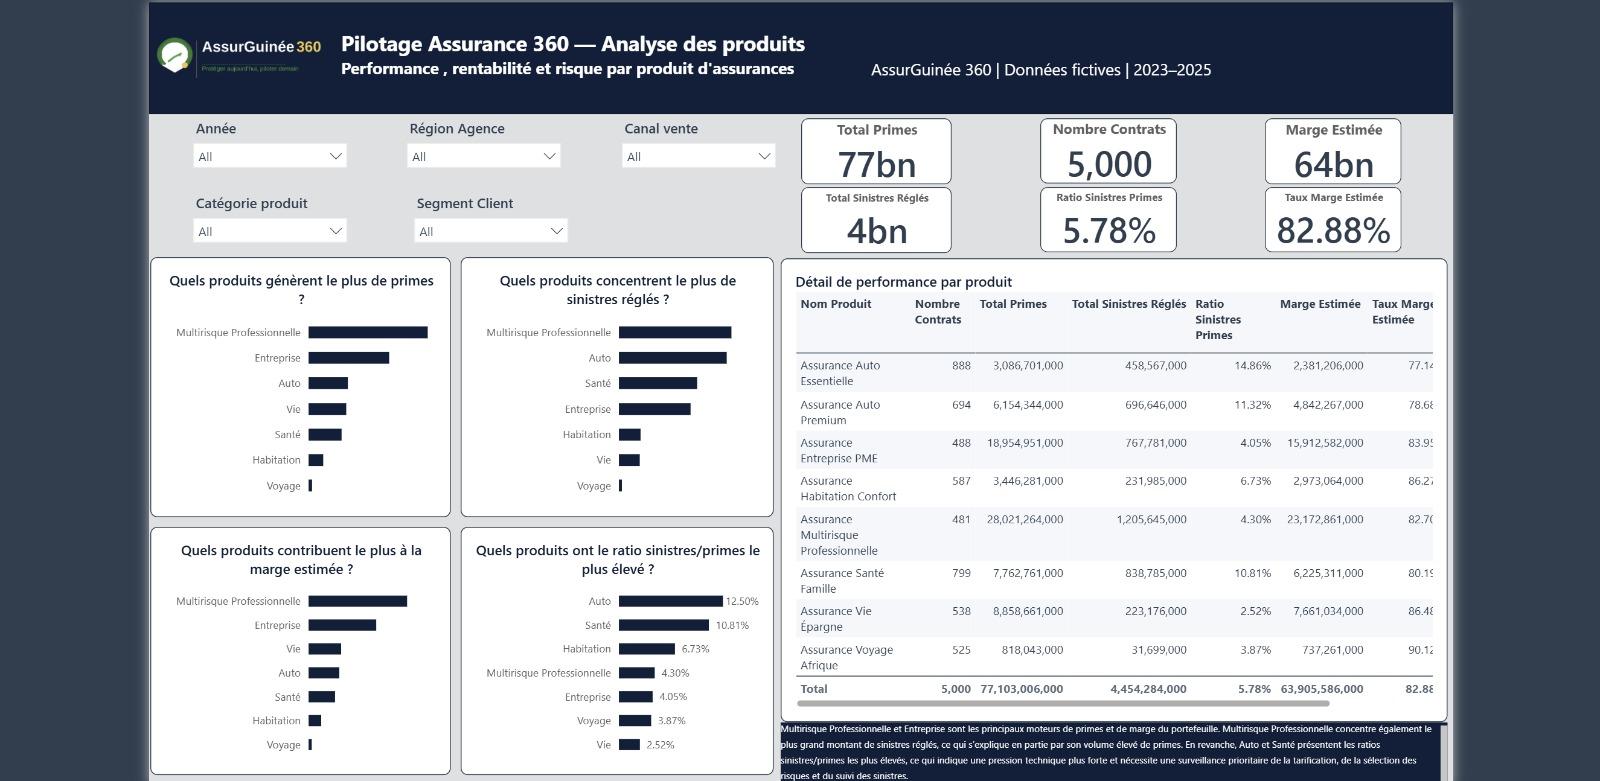

What the dashboard file says about the page in this screenshot:
{"tool":"powerbi","page":{"name":"Analyse Produits","canvas":[1500,900],"ordinal":1},"visuals":[{"type":"shape","box":[0,0,1500,128.6],"z":0},{"type":"image","box":[2,1,201,128],"z":1000},{"type":"textbox","box":[221.4,30,557.1,68.6],"z":2000},{"type":"textbox","box":[831,64,449,55],"z":3000},{"type":"cardVisual","fields":{"Data":["Mesures.Total Primes"]},"box":[750,132.9,173,76],"z":4000},{"type":"cardVisual","fields":{"Data":["Mesures.Nombre Contrats"]},"box":[1024.4,132.9,157.1,75.7],"z":5000},{"type":"cardVisual","fields":{"Data":["Mesures.Marge Estimée"]},"box":[1283,132.9,157,76],"z":6000},{"type":"cardVisual","fields":{"Data":["Mesures.Ratio Sinistres Primes"]},"box":[1024.4,212.9,157.1,75.7],"z":7000},{"type":"cardVisual","fields":{"Data":["Mesures.Taux Marge Estimée"]},"box":[1282.9,212.9,157.1,75.7],"z":8000},{"type":"cardVisual","fields":{"Data":["Mesures.Total Sinistres Réglés"]},"box":[750,212.9,173,76],"z":9000},{"type":"clusteredBarChart","title":"Quels produits génèrent le plus de primes ?","fields":{"Category":["Produits.Categorie Produit"],"Y":["Mesures.Total Primes"]},"box":[1.4,292.9,345.7,298.6],"z":10000},{"type":"clusteredBarChart","title":"Quels produits concentrent le plus de sinistres réglés ?","fields":{"Category":["Produits.Categorie Produit"],"Y":["Mesures.Total Sinistres Réglés"]},"box":[358.6,292.9,360,298.6],"z":11000},{"type":"clusteredBarChart","title":"Quels produits contribuent le plus à la marge estimée ?","fields":{"Category":["Produits.Categorie Produit"],"Y":["Mesures.Marge Estimée"]},"box":[1.4,602.9,345.7,285.7],"z":12000},{"type":"clusteredBarChart","title":"Quels produits ont le ratio sinistres/primes le plus élevé ?","fields":{"Category":["Produits.Categorie Produit"],"Y":["Mesures.Ratio Sinistres Primes"]},"box":[358.6,602.9,360,285.7],"z":13000},{"type":"slicer","fields":{"Values":["Objectifs.Annee"]},"box":[45.7,132.9,187.1,61.4],"z":14000},{"type":"slicer","fields":{"Values":["Agences.Region Agence"]},"box":[292.1,132.9,187.1,61.4],"z":15000},{"type":"slicer","fields":{"Values":["Produits.Categorie Produit"]},"box":[45.7,220,187.1,61.4],"z":16000},{"type":"slicer","fields":{"Values":["Clients.Segment Client"]},"box":[300.6,220,187.1,61.4],"z":17000},{"type":"slicer","fields":{"Values":["Agents.Canal Vente"]},"box":[538.6,132.9,187.1,61.4],"z":18000},{"type":"tableEx","title":"Détail de performance par produit","fields":{"Values":["Produits.Nom Produit","Mesures.Nombre Contrats","Mesures.Total Primes","Mesures.Total Sinistres Réglés","Mesures.Ratio Sinistres Primes","Mesures.Marge Estimée","Mesures.Taux Marge Estimée","Mesures.Taux Renouvellement"]},"box":[725.7,294.3,767.1,532.9],"z":19000},{"type":"textbox","box":[725.7,827.1,767.1,68.6],"z":20000}]}

Visuals, with their boxes on the page's 1500x900 design canvas (x1, y1, x2, y2). These are canvas units, not pixel positions in the 1600x781 screenshot, which may show the page scaled, cropped or inside an application window:
shape: rect(0, 0, 1500, 129)
image: rect(2, 1, 203, 129)
textbox: rect(221, 30, 778, 99)
textbox: rect(831, 64, 1280, 119)
cardVisual - Mesures.Total Primes: rect(750, 133, 923, 209)
cardVisual - Mesures.Nombre Contrats: rect(1024, 133, 1182, 209)
cardVisual - Mesures.Marge Estimée: rect(1283, 133, 1440, 209)
cardVisual - Mesures.Ratio Sinistres Primes: rect(1024, 213, 1182, 289)
cardVisual - Mesures.Taux Marge Estimée: rect(1283, 213, 1440, 289)
cardVisual - Mesures.Total Sinistres Réglés: rect(750, 213, 923, 289)
"Quels produits génèrent le plus de primes ?" clusteredBarChart: rect(1, 293, 347, 592)
"Quels produits concentrent le plus de sinistres réglés ?" clusteredBarChart: rect(359, 293, 719, 592)
"Quels produits contribuent le plus à la marge estimée ?" clusteredBarChart: rect(1, 603, 347, 889)
"Quels produits ont le ratio sinistres/primes le plus élevé ?" clusteredBarChart: rect(359, 603, 719, 889)
slicer - Objectifs.Annee: rect(46, 133, 233, 194)
slicer - Agences.Region Agence: rect(292, 133, 479, 194)
slicer - Produits.Categorie Produit: rect(46, 220, 233, 281)
slicer - Clients.Segment Client: rect(301, 220, 488, 281)
slicer - Agents.Canal Vente: rect(539, 133, 726, 194)
"Détail de performance par produit" tableEx: rect(726, 294, 1493, 827)
textbox: rect(726, 827, 1493, 896)
